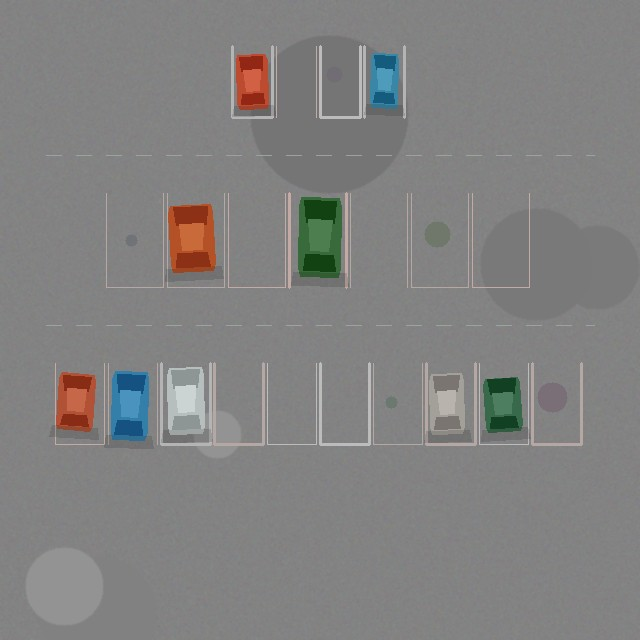space-empty: (106, 193, 163, 287), (228, 193, 285, 287), (350, 193, 407, 287), (411, 193, 468, 287), (472, 193, 529, 287), (214, 363, 263, 444), (267, 363, 316, 444), (320, 363, 369, 444), (373, 363, 422, 444), (532, 363, 581, 444), (276, 46, 316, 117), (320, 46, 360, 117)
space-occupied: (167, 193, 224, 287), (289, 193, 346, 287), (55, 363, 104, 444), (108, 363, 157, 444), (161, 363, 210, 444), (426, 363, 475, 444), (479, 363, 528, 444), (232, 46, 272, 117), (364, 46, 404, 117)
